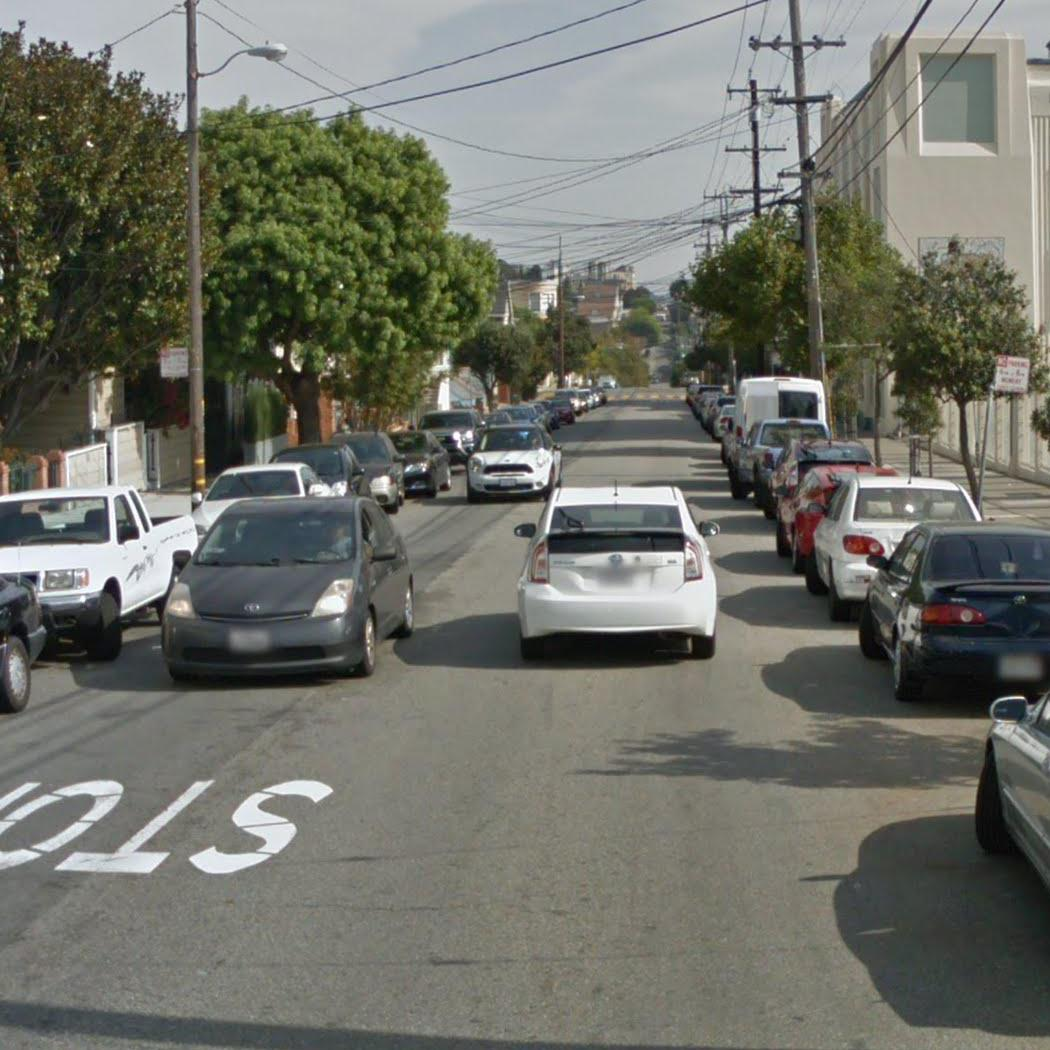No Parking: (989, 353, 1035, 397)
